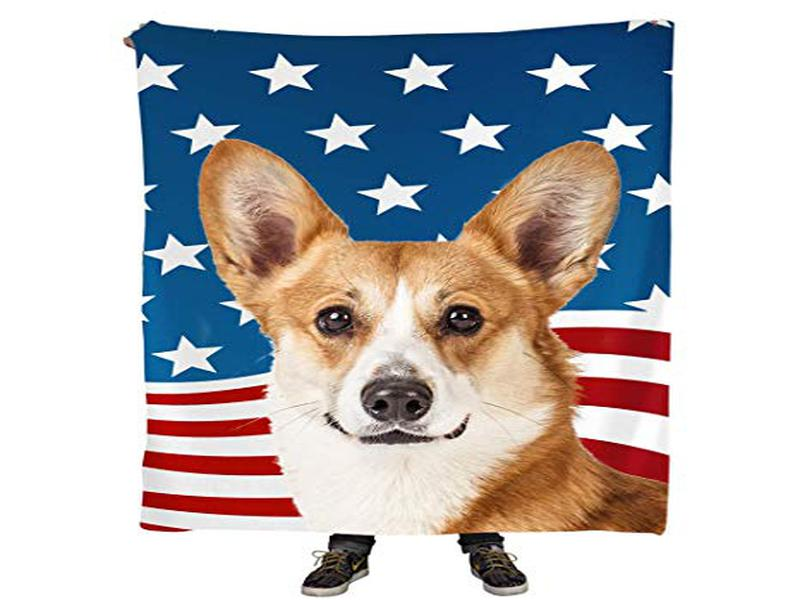corgi: (192, 139, 626, 458)
